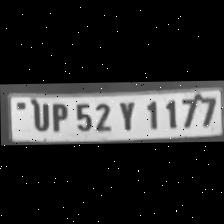1: (139, 96, 161, 129), (160, 96, 178, 128)
2: (90, 97, 114, 130)
5: (70, 98, 92, 131)
7: (176, 94, 198, 127), (196, 93, 216, 126)
P: (47, 99, 69, 130)
U: (28, 99, 50, 130)
Y: (113, 97, 139, 131)
